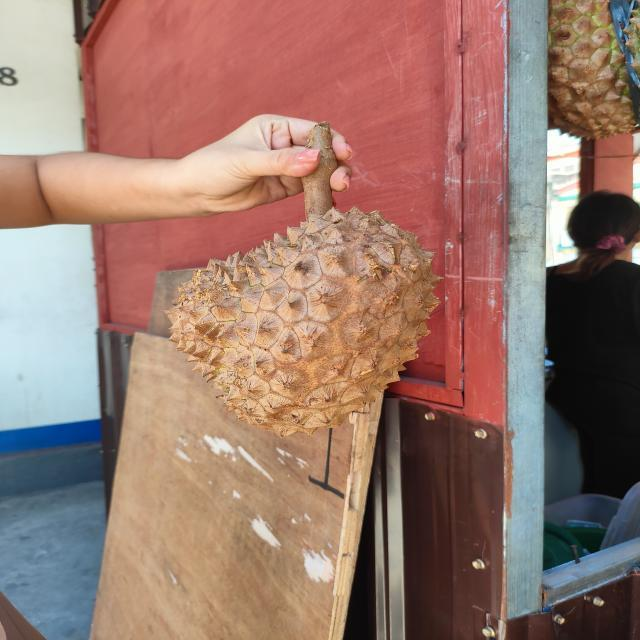mature: (164, 205, 449, 437)
